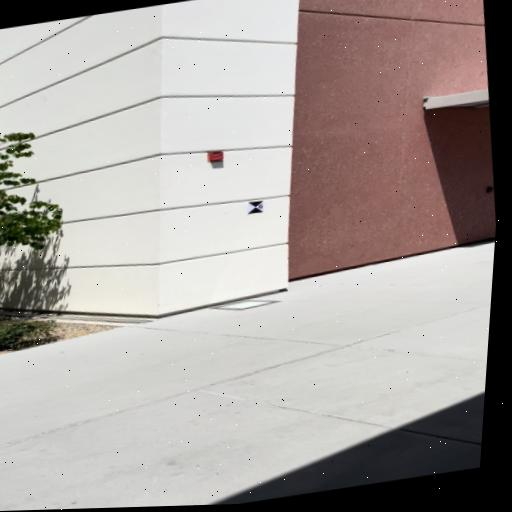target6: (247, 200, 265, 215)
